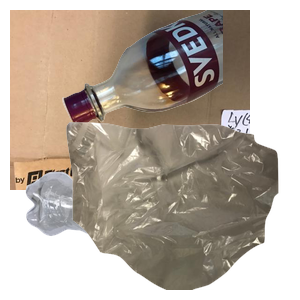cardboard: (10, 10, 250, 190)
glass: (60, 10, 300, 130)
plastic: (23, 169, 243, 300)
trash: (64, 120, 300, 300)
